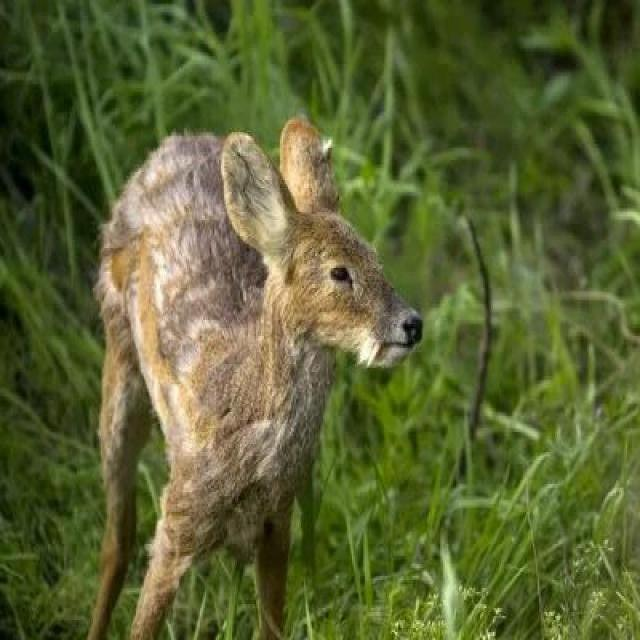deer: (74, 96, 430, 624)
